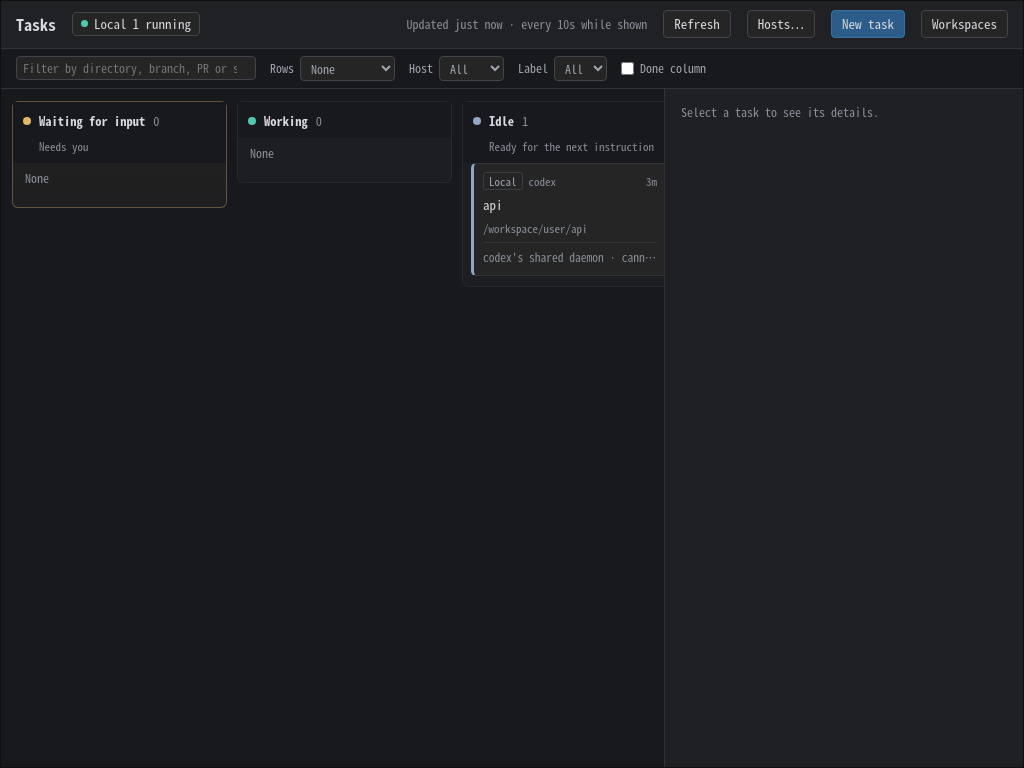
TaskDashboard › shows a session codex's shared daemon runs as one no pane can be opened for
Expected: the element with test id "task-card-daemon" shows "codex's shared daemon · cannot open in a pane", [483,249,664,265]
Click the element with test id "task-card-daemon" at (570, 219), box [471,163,668,276]
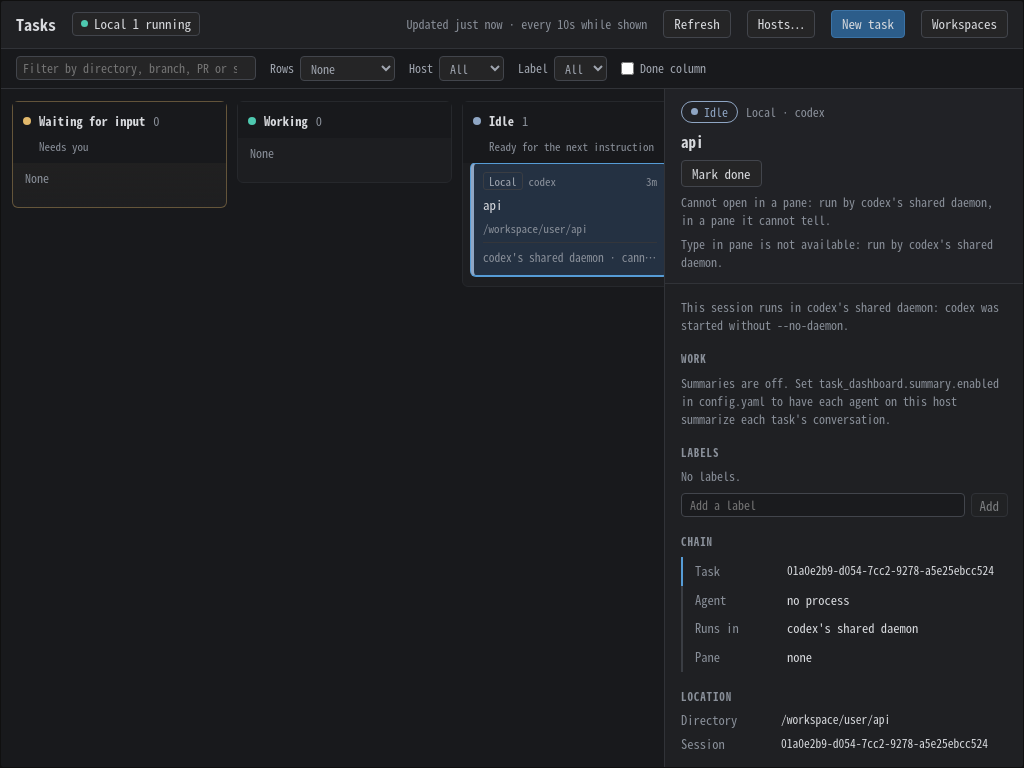
Expected: the element named "Task details" shows "This session runs in codex's shared daemon", [681,298,999,333]
